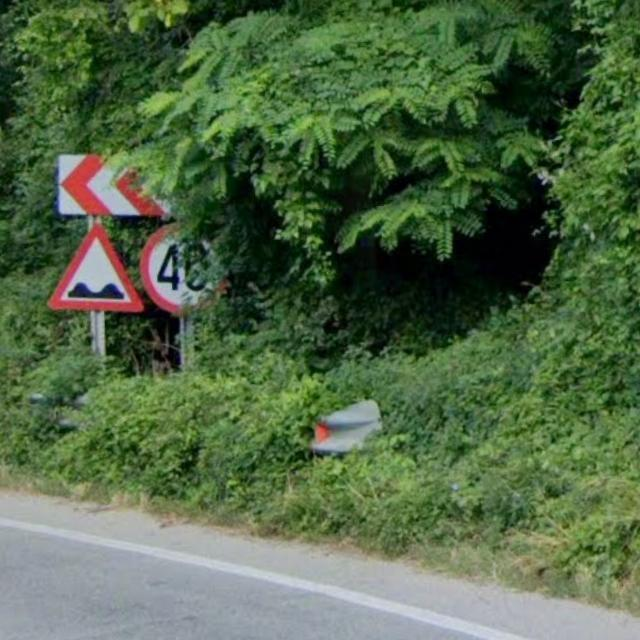forb_speed_over_40: (141, 223, 225, 314)
